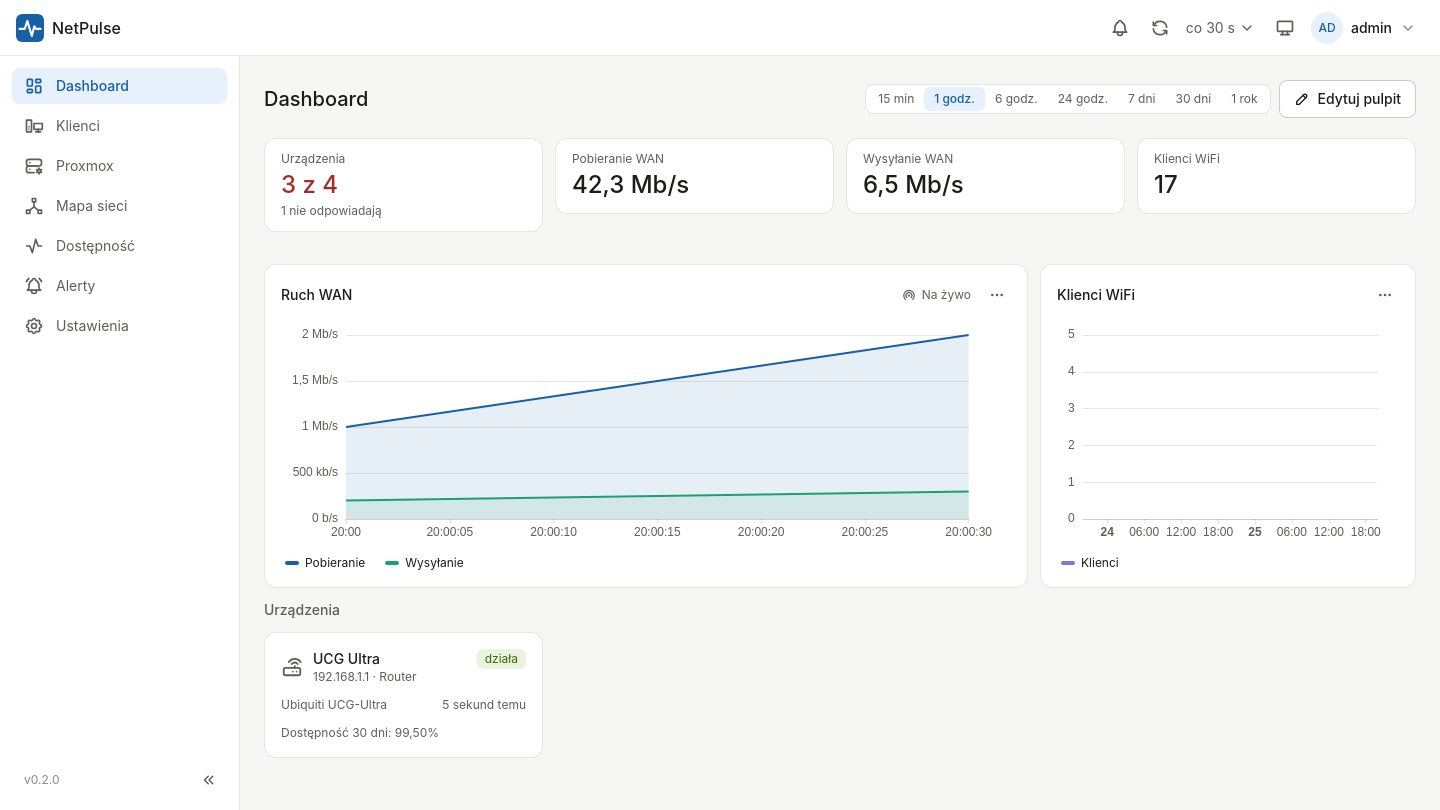
Test case: odświeżanie w pasku górnym › Escape zamyka menu odświeżania
Click the button with aria-label "Automatyczne odświeżanie": point(1220, 28) [1178,10,1263,46]
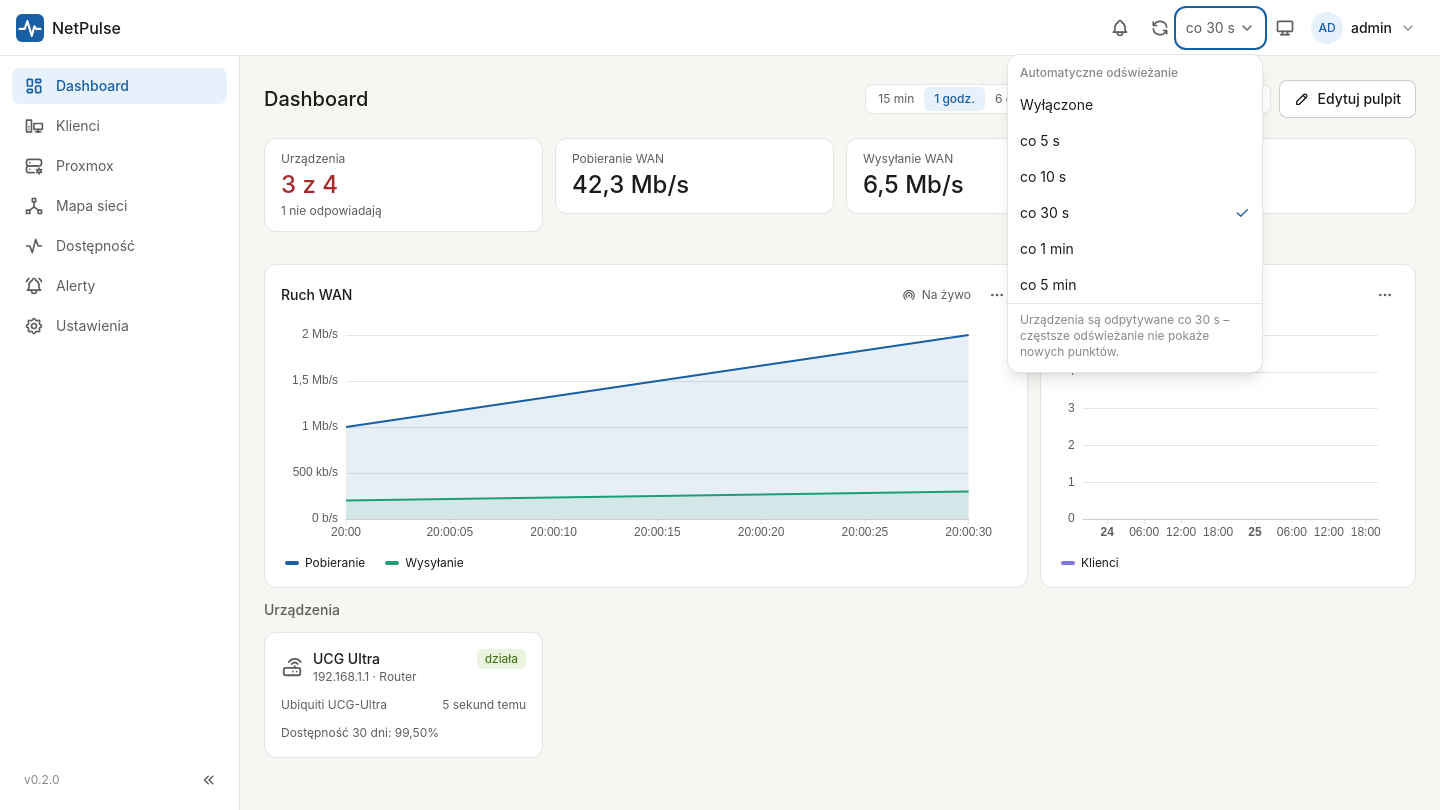
Now the menu is shown, box [1007,54,1263,372]
Press Escape
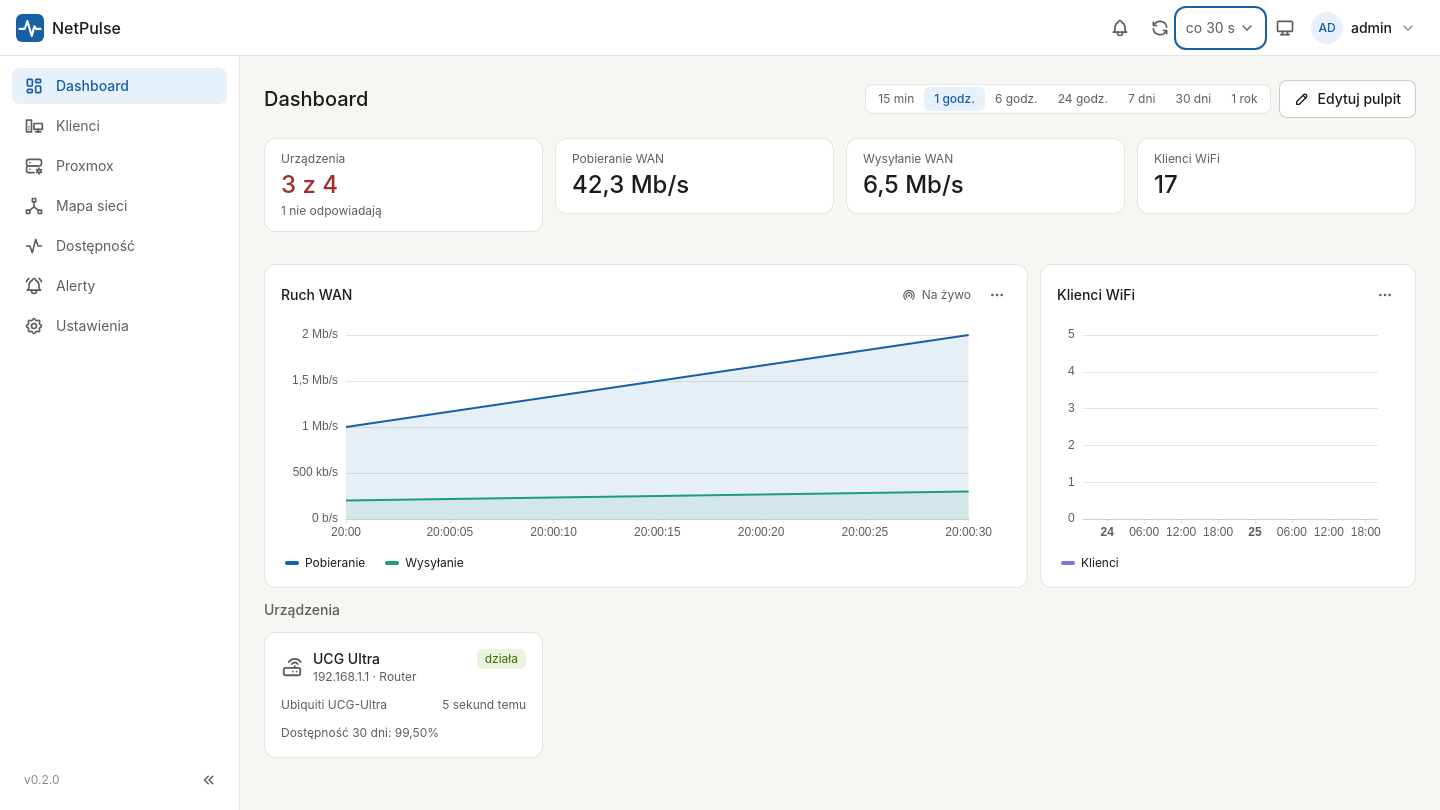
Now the menu is gone
